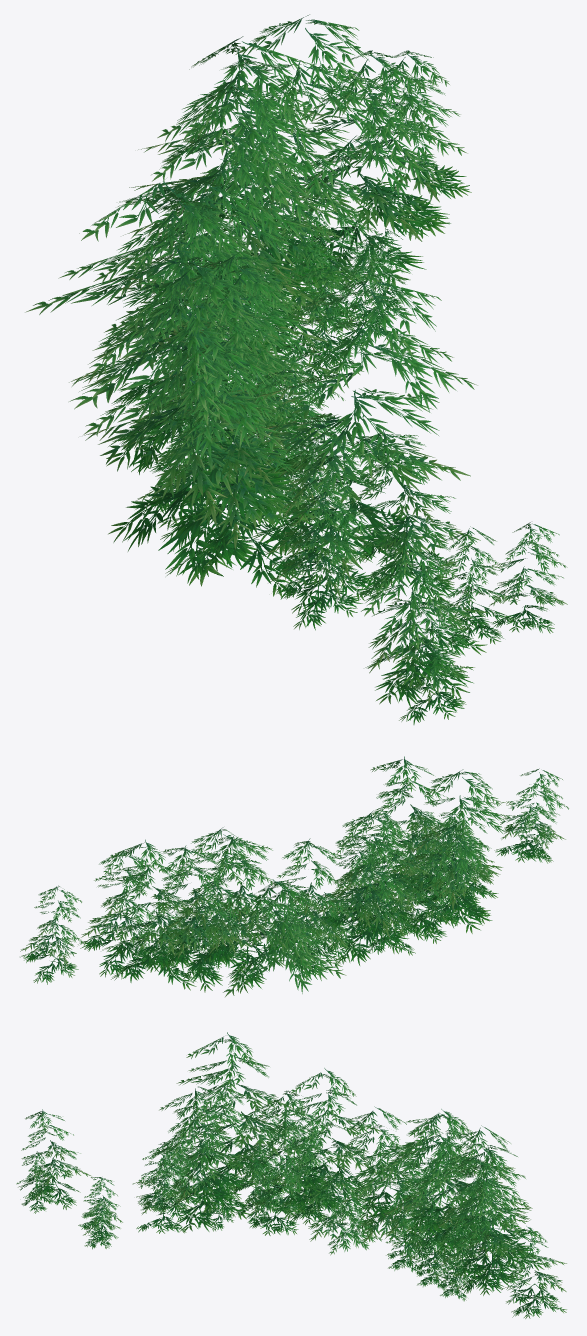
The model's file is Area_06_20.fbx.
3 views of the same model, one above another, from view 1: azimuth 30°, elevation 25°; view 2: azimuth 150°, elevation 25°; view 3: azimuth 270°, elevation 25° (orthographic). The views are drawn at different scales.
Visible parts, largest first — view 1: Area_06_20; view 2: Area_06_20; view 3: Area_06_20.
Boxes of the visible parts, <box> form: Area_06_20: <box>25,14,567,724</box>; Area_06_20: <box>20,756,568,996</box>; Area_06_20: <box>16,1032,566,1318</box>.
Size of the model in its own units: 3961 by 1918 by 5682.
